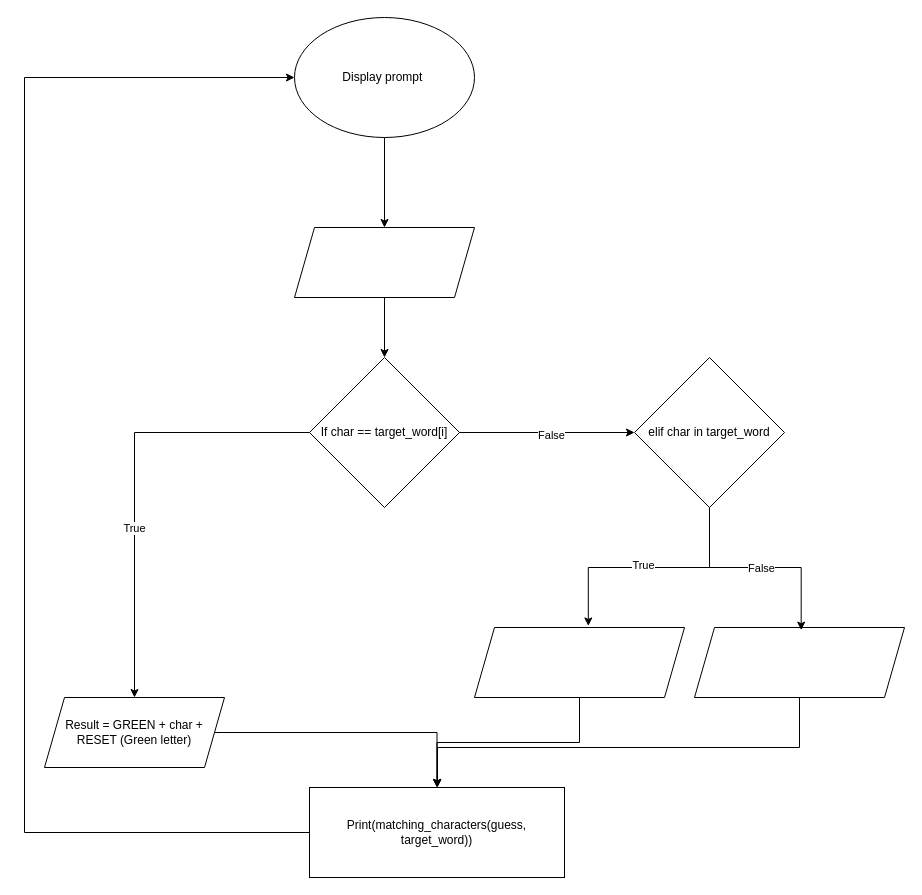
The diagram is 922 pixels wide and 895 high, and some of its shapes have lost their labels. The centre of each missing label's shape, as x and y in pixels:
"Enter Guess" goes at pixel 384 262.
"Result += char (No change)" goes at pixel 799 662.
"Result = Yellow + char + RESET (Yellow letter)" goes at pixel 579 662.
